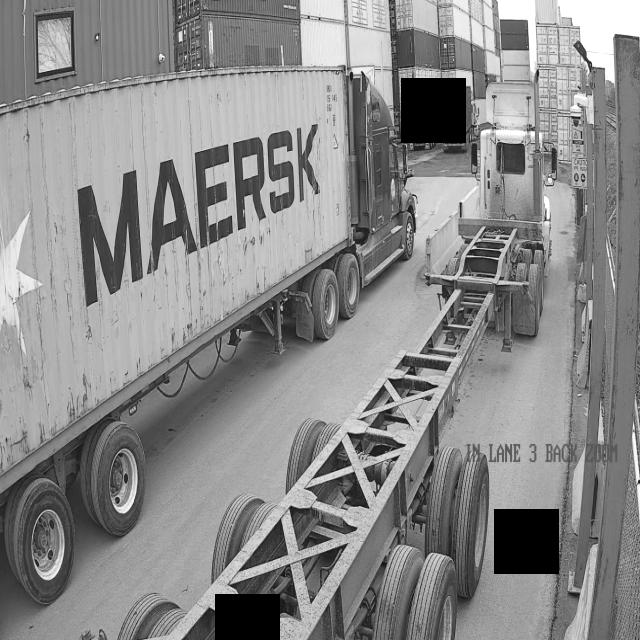container_company_logo: (77, 125, 319, 307)
truck_with_container: (0, 67, 419, 602)
truck_without_container: (117, 84, 557, 640), (171, 59, 547, 640)
